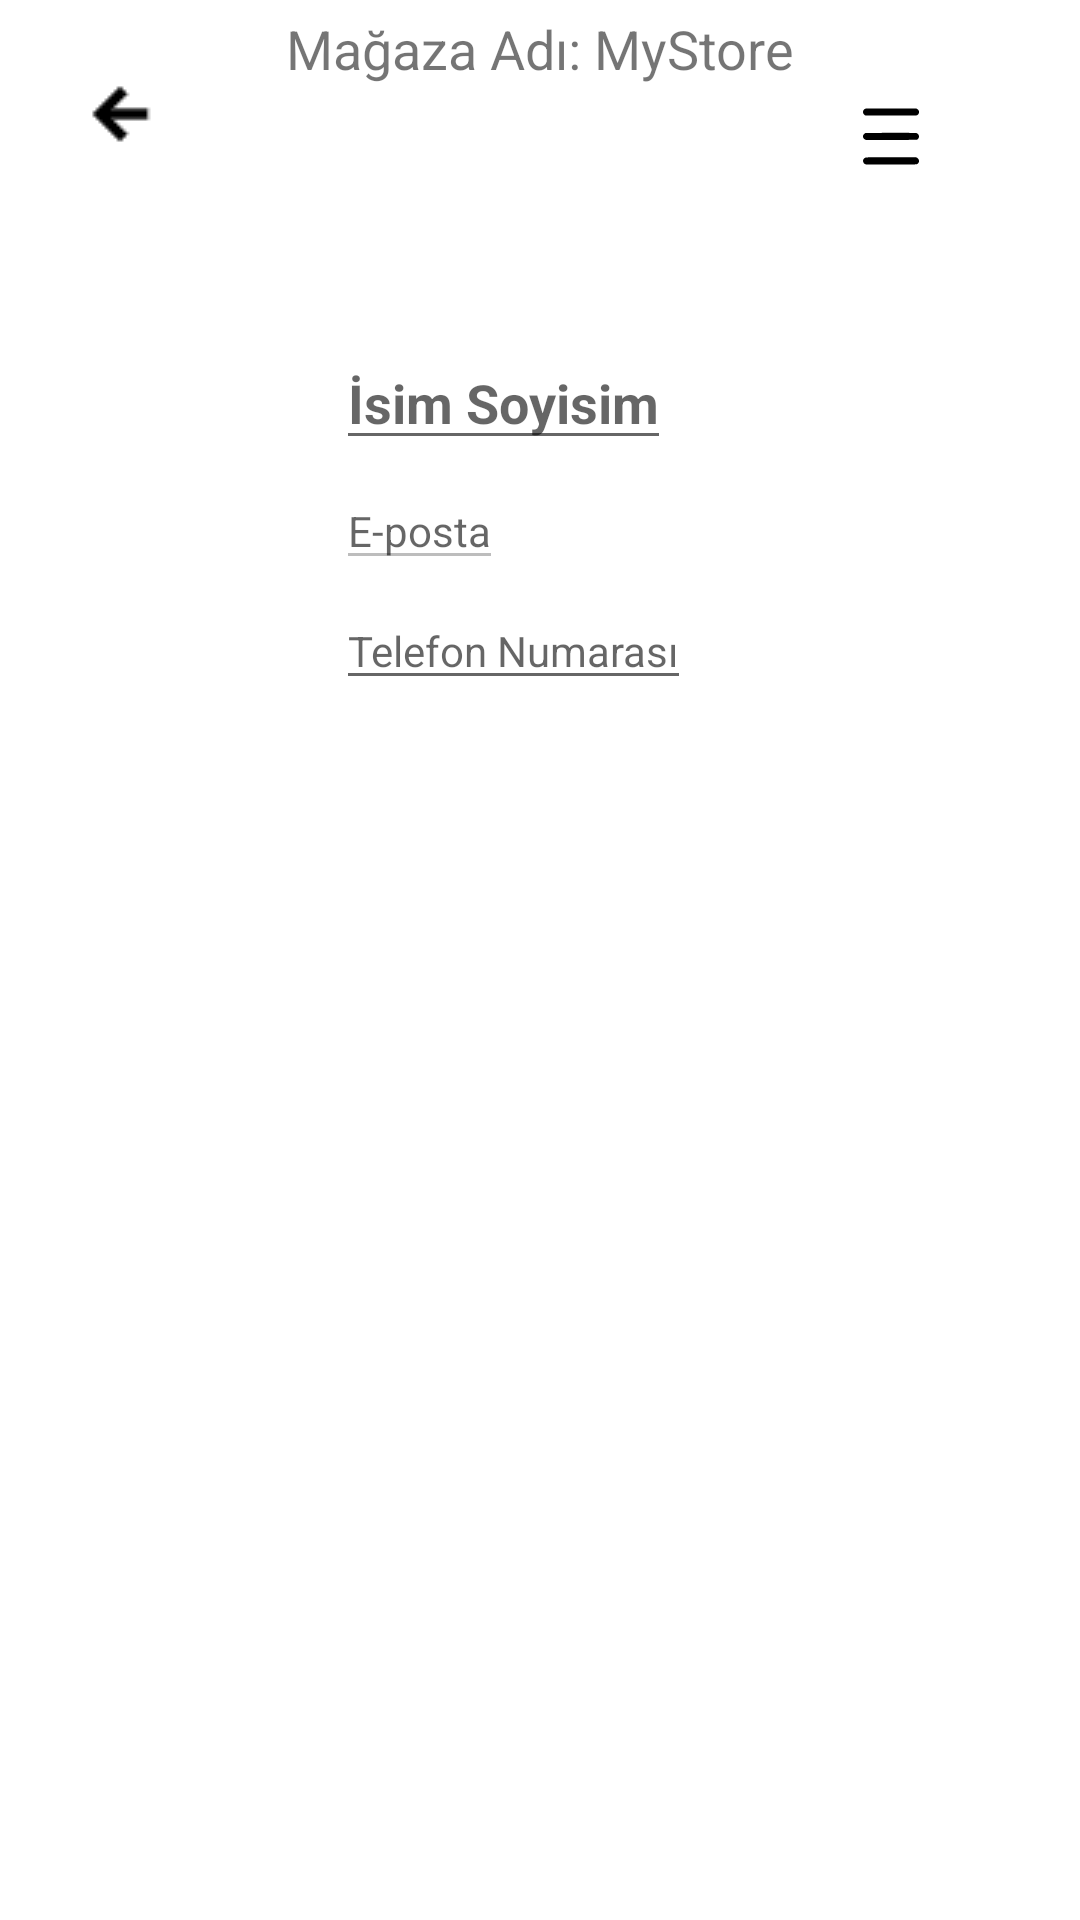

Named icons in this screenshot (1080*1920) and their centers, (x,y):
Back: (121,114)
